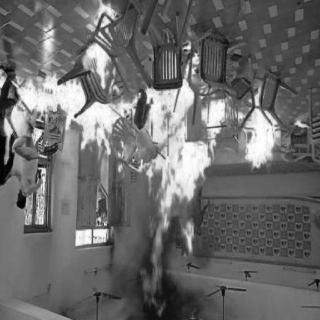Fire: (118, 53, 290, 247), (8, 7, 126, 151)
